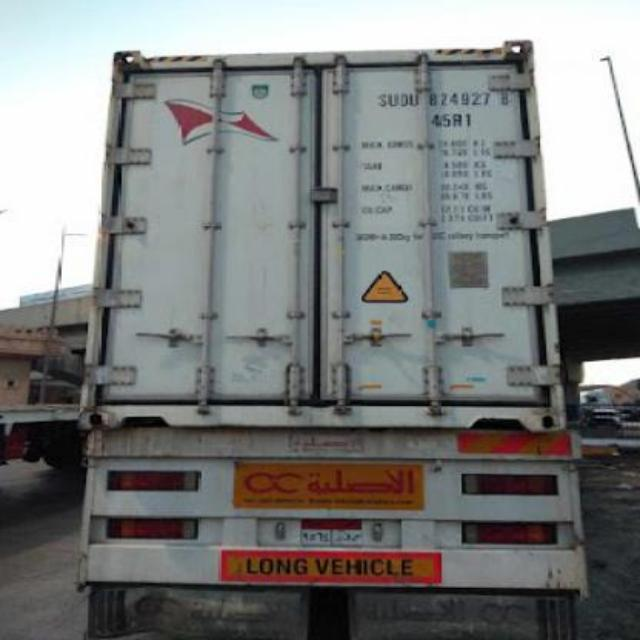2: (470, 90, 482, 108), (438, 92, 448, 106)
4: (448, 92, 460, 106)
7: (484, 92, 492, 106)
8: (428, 94, 438, 108), (500, 94, 510, 106)
9: (460, 92, 472, 108)
D: (400, 94, 410, 108)
S: (376, 94, 388, 108)
U: (388, 94, 400, 108), (408, 94, 420, 108)
